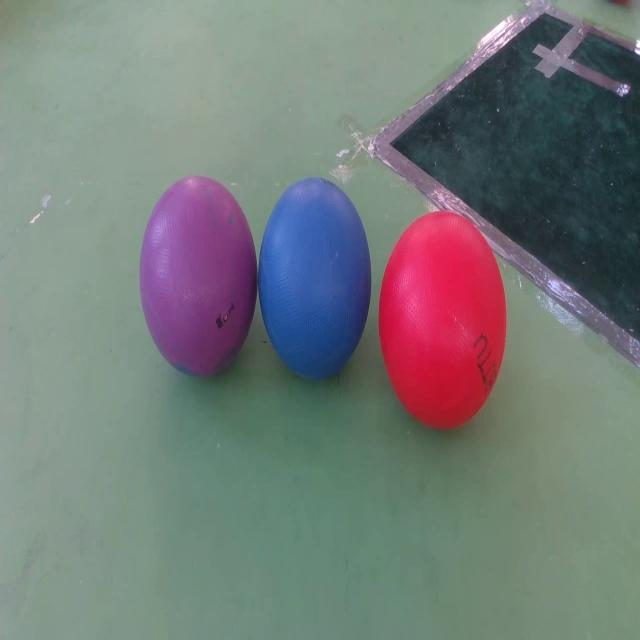blue: (259, 176, 374, 379)
invalid: (137, 174, 257, 381)
red: (378, 210, 506, 429)
